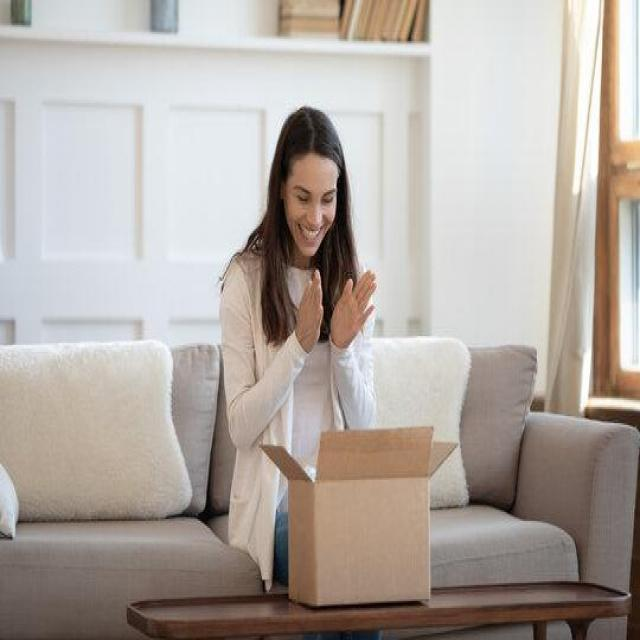box: (266, 418, 449, 616)
